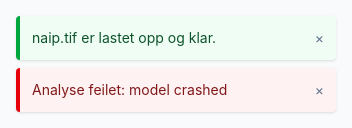
Scenario: Toaster › shows toasts, errors as alerts, and lets the user dismiss them
Check: the message "naip.tif er lastet opp og klar. ×" is shown, box [16, 16, 336, 60]
Check: the message "Analyse feilet: model crashed ×" is shown, box [16, 68, 336, 112]
Click the button named "Lukk varsel" at (319, 38), box [315, 28, 324, 48]
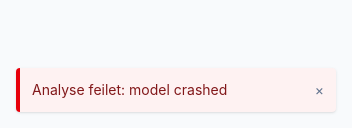
Check: the message "naip.tif er lastet opp og klar. ×" is gone
